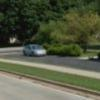cars: (23, 44, 47, 57)
